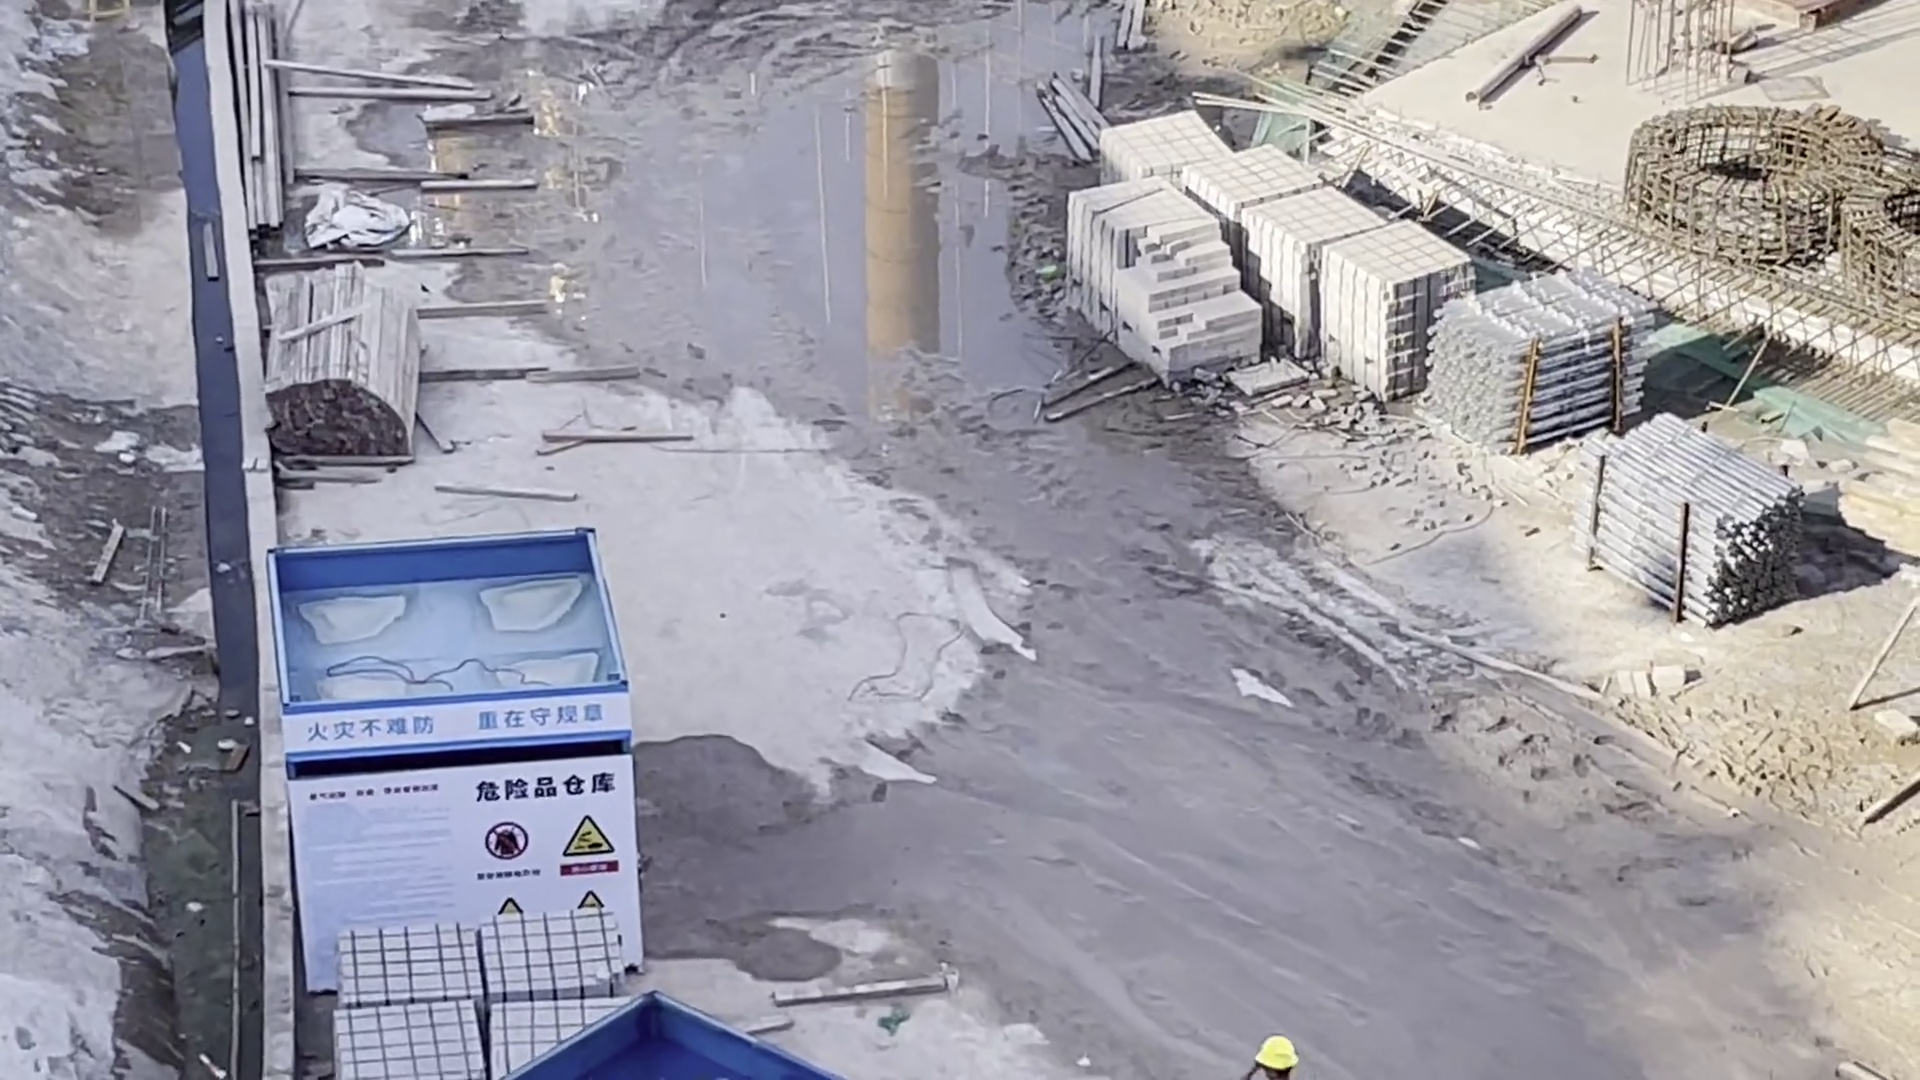brick: (1071, 123, 1429, 400)
helmet: (1255, 1039, 1304, 1069)
scaffold: (1578, 415, 1800, 626), (1420, 270, 1646, 450)
slogan: (293, 694, 628, 742), (463, 819, 632, 907)
wood: (276, 276, 413, 447)
